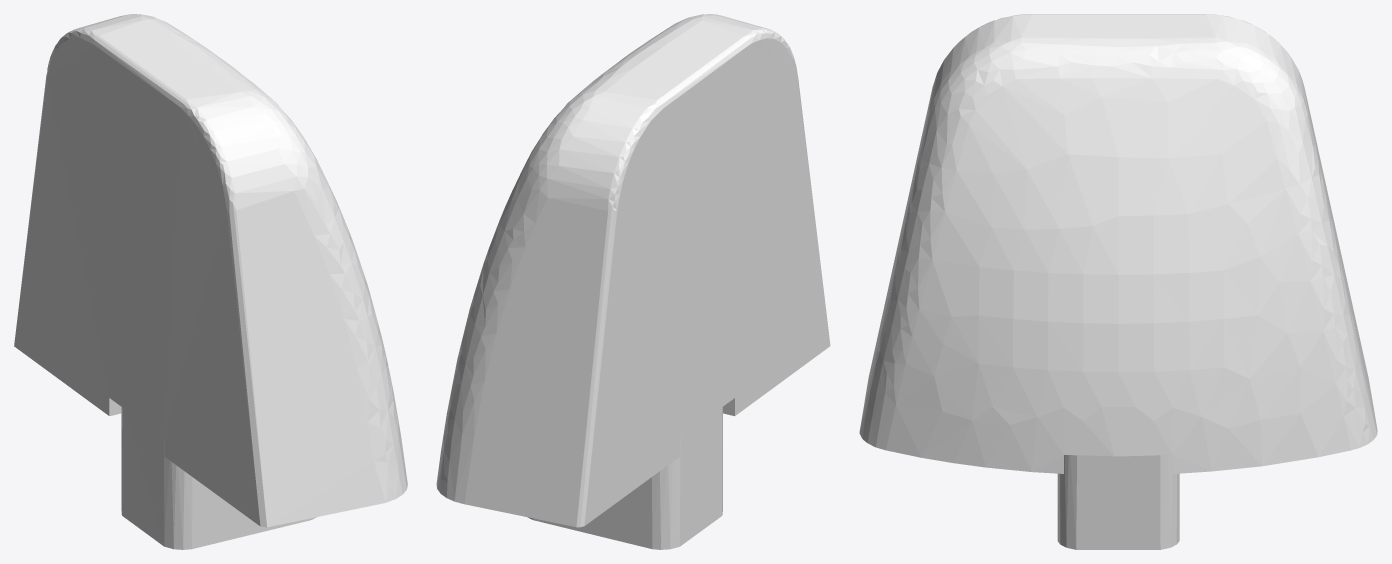
File: hand_f.dae
The picture shows the model from 3 angles, left to right: view 1: azimuth 30°, elevation 25°; view 2: azimuth 150°, elevation 25°; view 3: azimuth 270°, elevation 25°; orthographic projection.
Visible parts, largest first — view 1: tmp_export_hand_f; view 2: tmp_export_hand_f; view 3: tmp_export_hand_f.
Part boxes in pixels (box(x1,y1,x2,y2)): tmp_export_hand_f: box(14, 14, 407, 549); tmp_export_hand_f: box(436, 14, 830, 549); tmp_export_hand_f: box(859, 14, 1377, 549).
Bounding box in the file's own units: 0.0139 × 0.0309 × 0.0303.
Materials: 1 (1 with a texture image).
